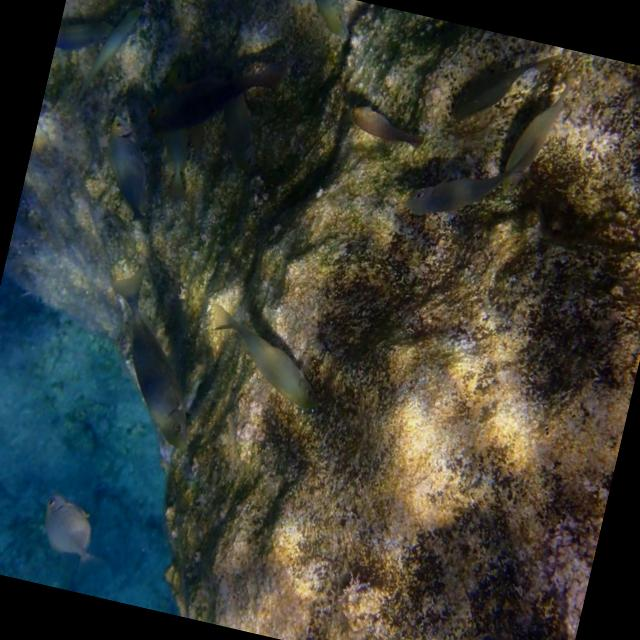Sokar Baligi: (72, 250, 230, 462), (191, 294, 342, 427), (23, 480, 122, 588), (336, 91, 430, 163)
